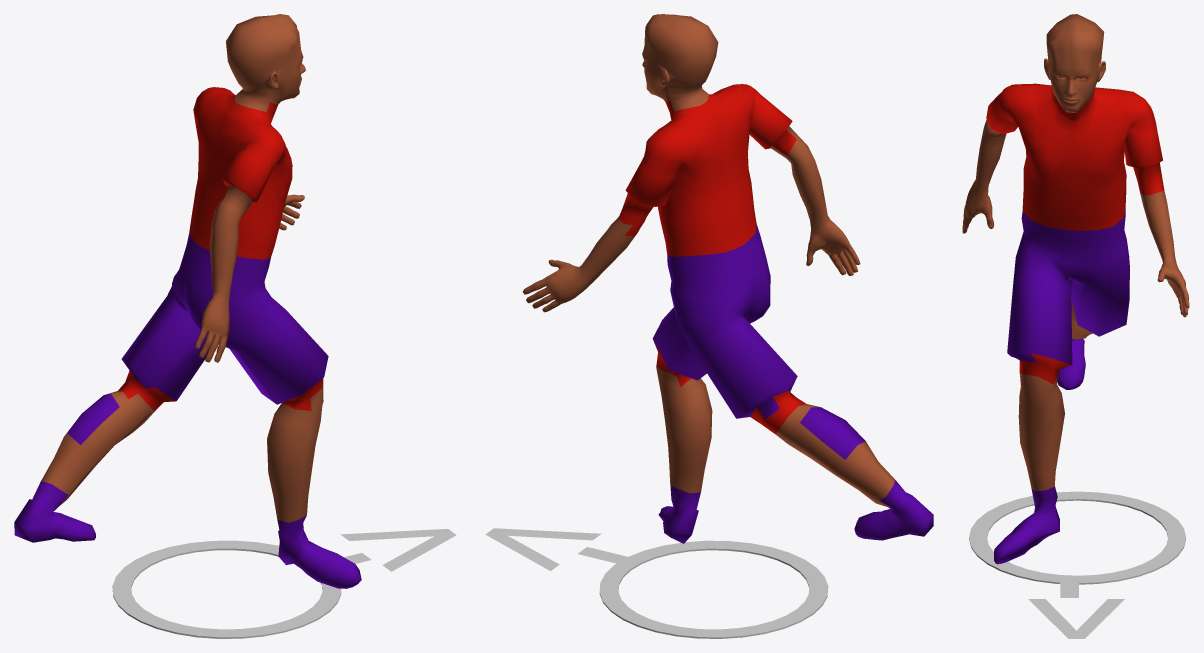
File: player_000018.obj
The picture shows the model from 3 angles, left to right: view 1: azimuth 30°, elevation 25°; view 2: azimuth 150°, elevation 25°; view 3: azimuth 270°, elevation 25°; orthographic projection. The views are drawn at different scales.
Parts seen in each view (by area): view 1: soccerplayer.002_mesh.003, Circle, Text.001_Mesh.001; view 2: soccerplayer.002_mesh.003, Circle, Text.001_Mesh.001; view 3: soccerplayer.002_mesh.003, Circle, Text.001_Mesh.001.
Part boxes in pixels (x1,y1,x2,y2): soccerplayer.002_mesh.003: (14,14,361,588); Circle: (112,540,341,638); Text.001_Mesh.001: (340,529,456,571); soccerplayer.002_mesh.003: (522,14,933,543); Circle: (599,540,828,638); Text.001_Mesh.001: (485,528,630,570); soccerplayer.002_mesh.003: (962,14,1189,564); Circle: (969,491,1185,584); Text.001_Mesh.001: (1028,577,1124,638).
Bounding box in the file's own units: 2.39 × 2.95 × 1.14.
